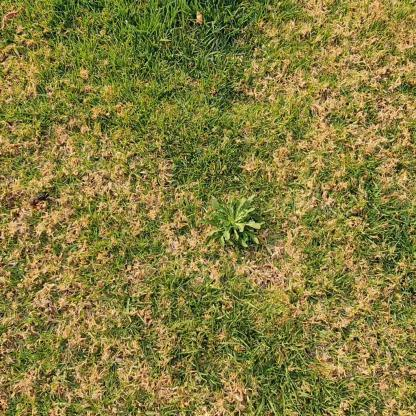Weeds: (199, 194, 267, 249)
